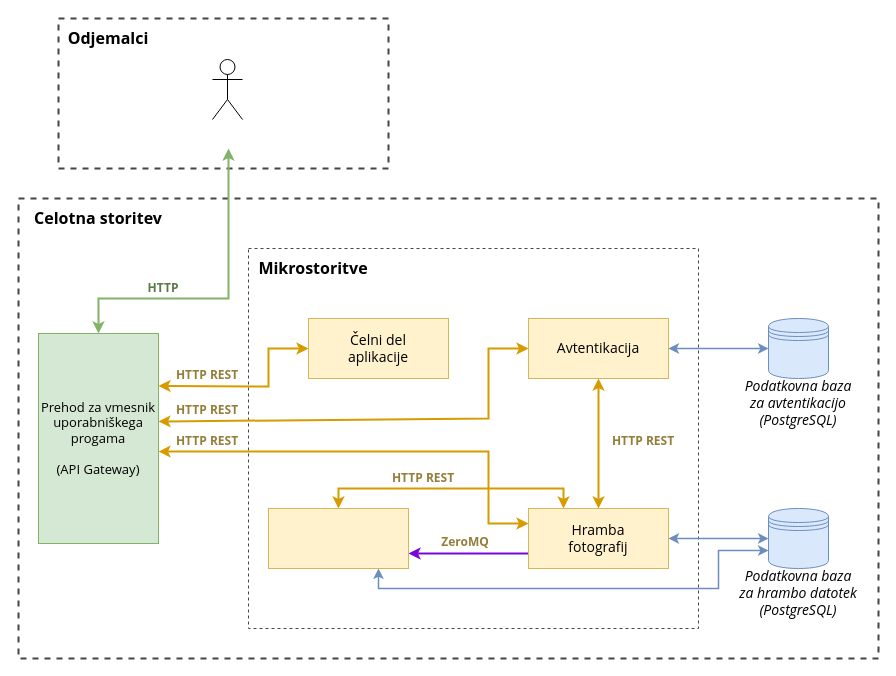
Image size: 896x676. Some labels were removed from this diagram. Here are the shapes that lost their labels. From the top down, the centre of each, then its label:
(x=227, y=89): Uporabnik
(x=338, y=538): Procesiranje fotografij
